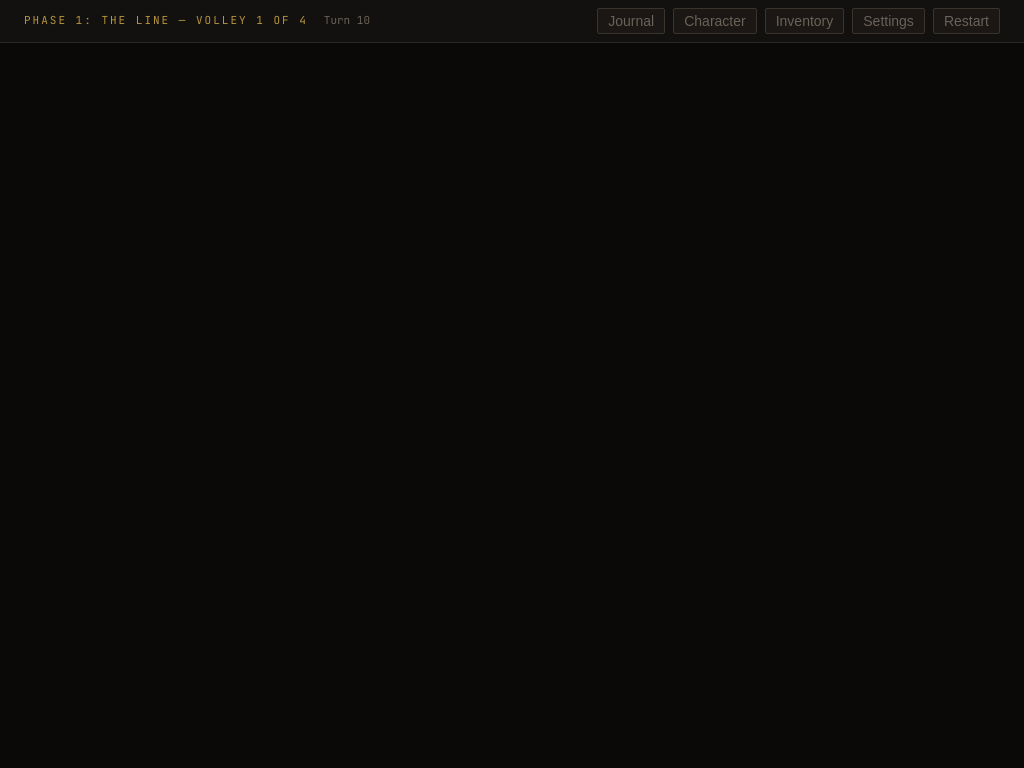
OpeningBeatPage › shows journal overlay when journal button clicked
What coordinates should you click on to do the following:
click the button titled "Journal"
I would click on:
 (631, 21)
Its box is [597,8,665,34].
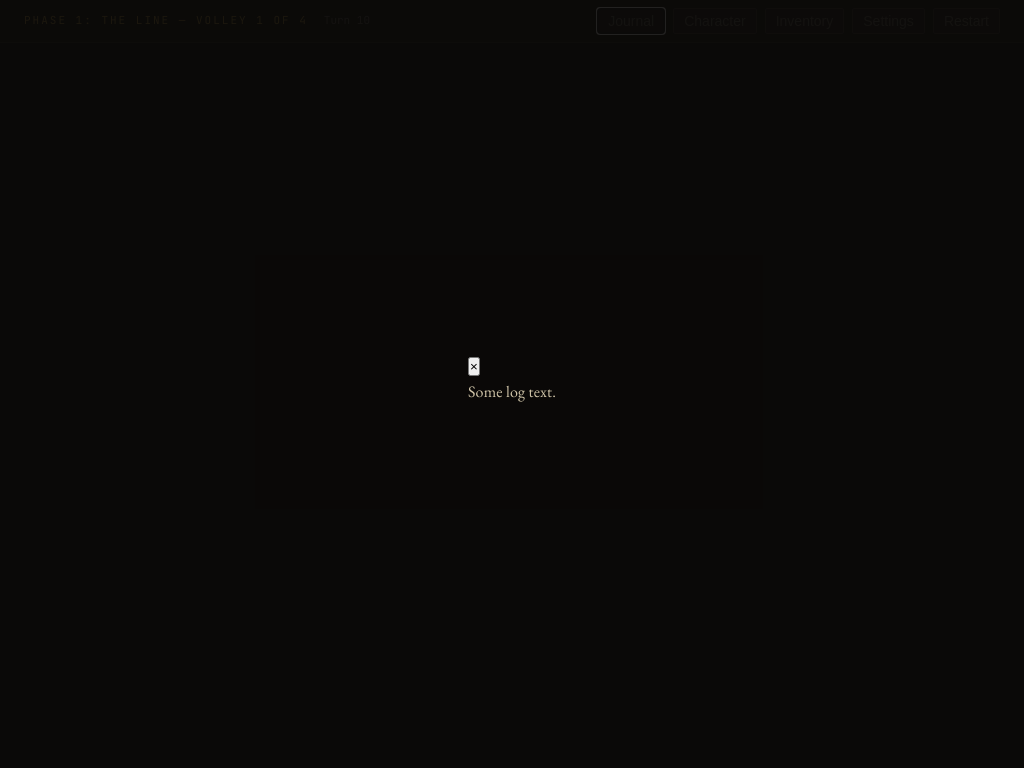
Expected: the text "Some log text." is shown, [468,379,556,405]
